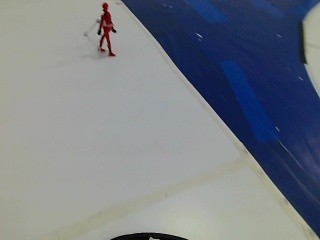pedestrian: (91, 1, 125, 54)
